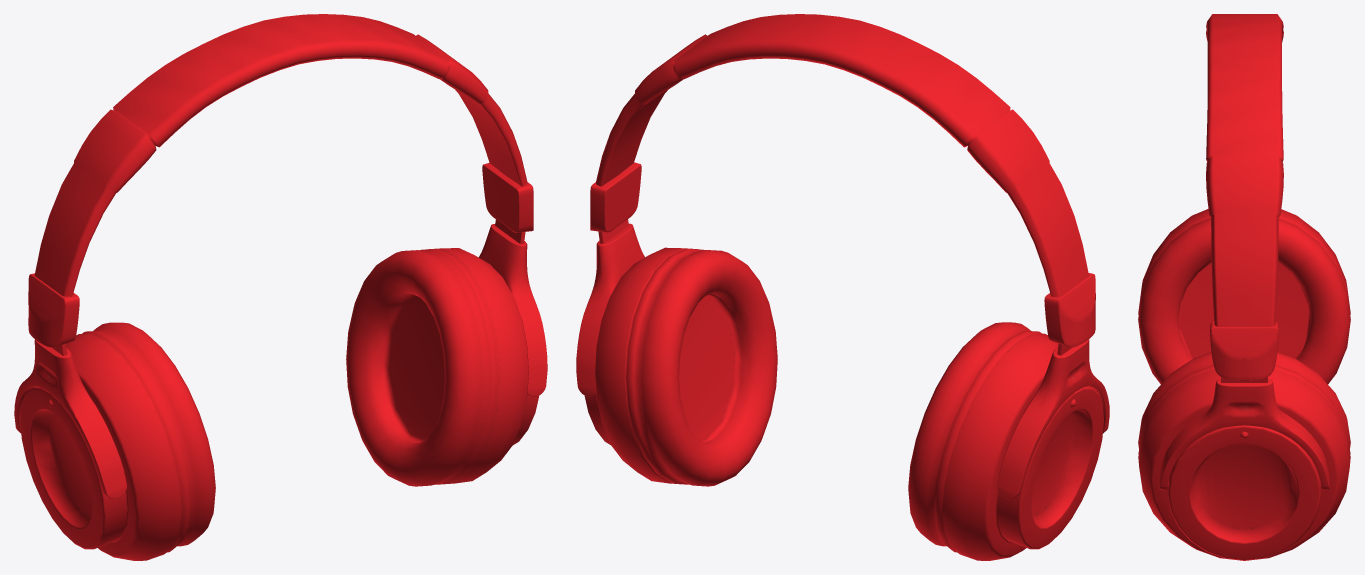
File: headphones.glb
3 views of the same model, side by side, from view 1: azimuth 30°, elevation 25°; view 2: azimuth 150°, elevation 25°; view 3: azimuth 270°, elevation 25° (orthographic). The views are drawn at different scales.
Visible parts, largest first — view 1: node_id5; view 2: node_id5; view 3: node_id5.
Boxes of the visible parts, x1,y1,x2,y2 form: node_id5: (14,14,547,560); node_id5: (576,14,1109,560); node_id5: (1138,14,1350,560).
Size of the model in its own units: 0.512 by 0.4819 by 0.2079.
Materials: 1 (1 with a texture image).
